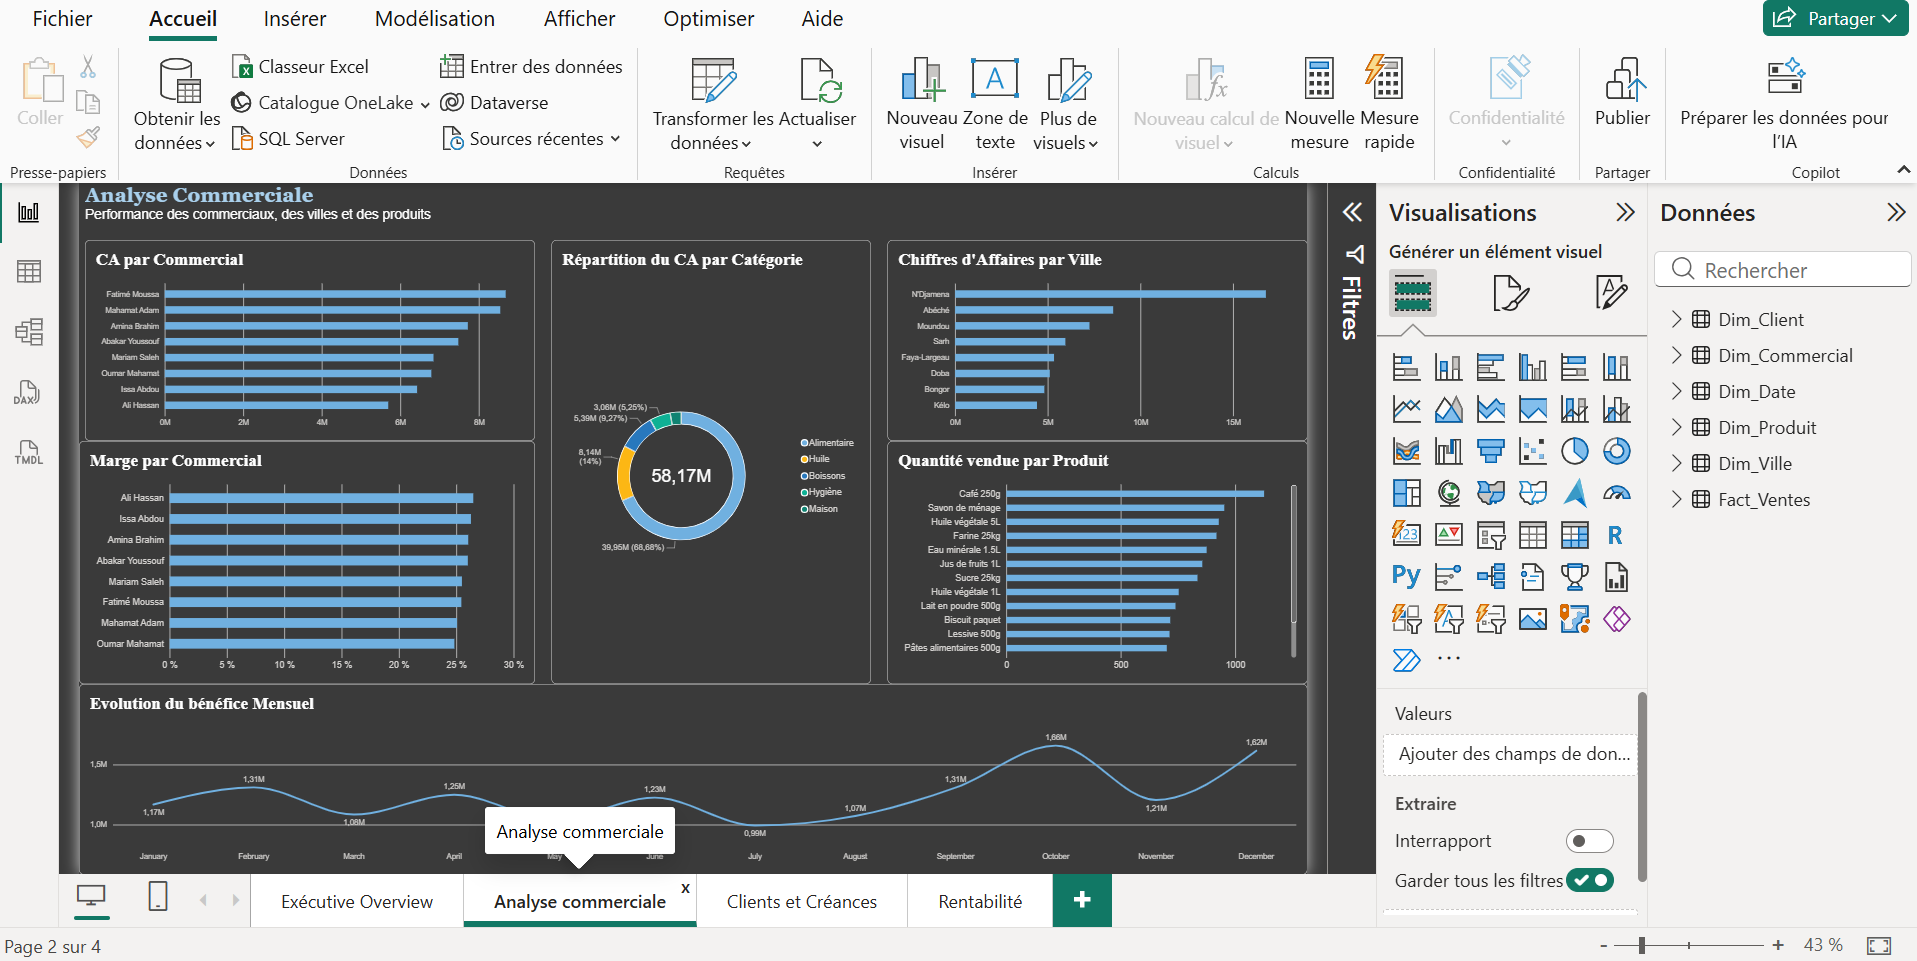

Layout of this report page (visuals, bound fields, positions):
{"tool":"powerbi","page":{"name":"Analyse commerciale","canvas":[1920,1080],"ordinal":1},"visuals":[{"type":"textbox","box":[10,0,642.5,90],"z":0},{"type":"clusteredBarChart","title":"CA par Commercial","fields":{"Category":["Dim_Commercial.Commercial"],"Y":["Fact_Ventes.Chiffres d'Affaires"]},"box":[9.4,89.1,703.3,314.2],"z":1000},{"type":"clusteredBarChart","title":"Marge par Commercial","fields":{"Category":["Dim_Commercial.Commercial"],"Y":["Fact_Ventes.Marge %"]},"box":[0,403.3,712.7,379.8],"z":2000},{"type":"clusteredBarChart","title":"Chiffres d''Affaires par Ville","fields":{"Category":["Dim_Ville.Ville"],"Y":["Fact_Ventes.Chiffres d'Affaires"]},"box":[1263.7,89.1,656.5,314.2],"z":3000},{"type":"clusteredBarChart","title":"Quantité vendue par Produit","fields":{"Category":["Dim_Produit.Produit"],"Y":["Fact_Ventes.Quantité vendue"]},"box":[1263.7,403.3,656.5,379.8],"z":4000},{"type":"donutChart","title":"Répartition du CA par Catégorie","fields":{"Category":["Dim_Produit.Categorie"],"Y":["Fact_Ventes.Chiffres d'Affaires"]},"box":[738.5,89.1,499.4,694],"z":5000},{"type":"lineChart","title":"Evolution du bénéfice Mensuel","fields":{"Category":["Dim_Date.Mois"],"Y":["Fact_Ventes.Bénéfice"]},"box":[0,783.1,1920.1,297.7],"z":6000}]}

Visuals, with their boxes on the page's 1920x1080 design canvas (x1, y1, x2, y2). These are canvas units, not pixel positions in the 1917x961 screenshot, which may show the page scaled, cropped or inside an application window:
textbox: Rect(10, 0, 652, 90)
"CA par Commercial" clusteredBarChart: Rect(9, 89, 713, 403)
"Marge par Commercial" clusteredBarChart: Rect(0, 403, 713, 783)
"Chiffres d''Affaires par Ville" clusteredBarChart: Rect(1264, 89, 1920, 403)
"Quantité vendue par Produit" clusteredBarChart: Rect(1264, 403, 1920, 783)
"Répartition du CA par Catégorie" donutChart: Rect(738, 89, 1238, 783)
"Evolution du bénéfice Mensuel" lineChart: Rect(0, 783, 1920, 1081)
